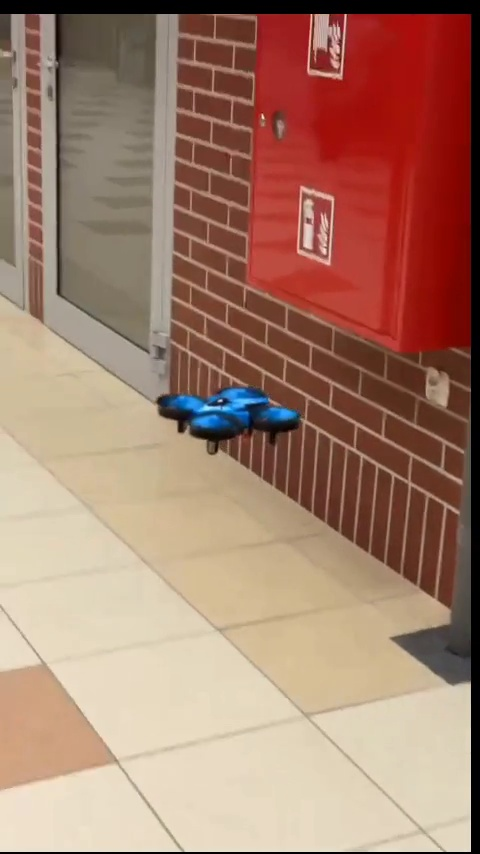drone: (159, 377, 301, 458)
